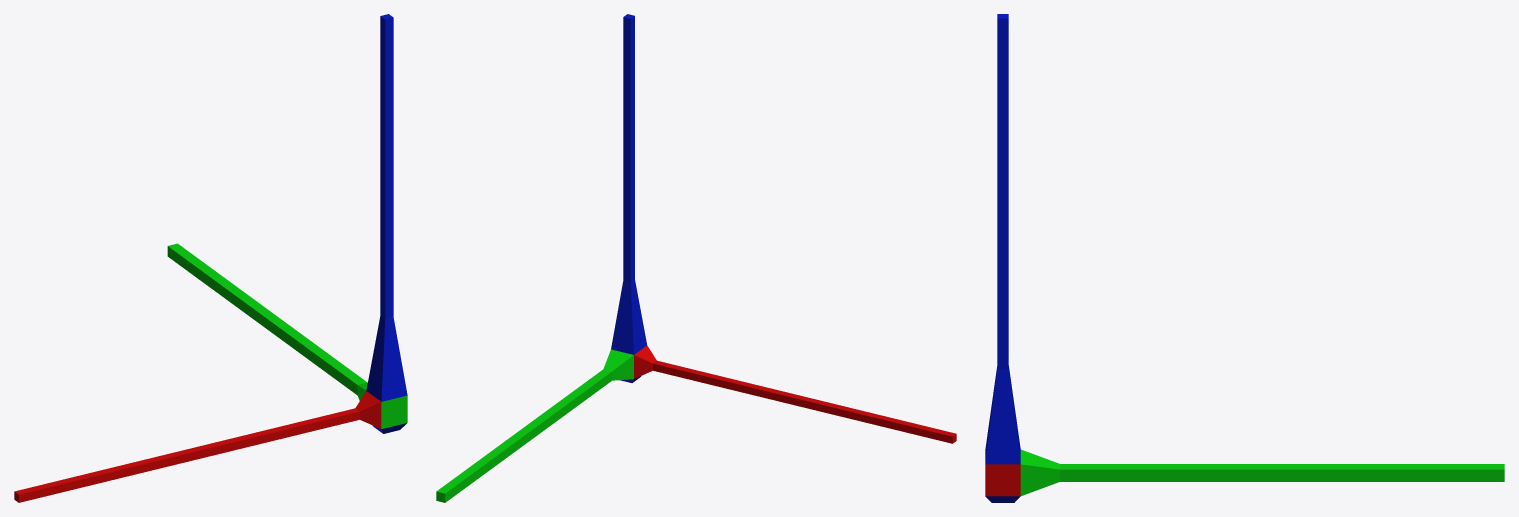
File: ArrowCursorFBX01.fbx
3 views of the same model, side by side, from view 1: azimuth 30°, elevation 25°; view 2: azimuth 150°, elevation 25°; view 3: azimuth 270°, elevation 25° (orthographic). The views are drawn at different scales.
Parts seen in each view (by area): view 1: MyCursor; view 2: MyCursor; view 3: MyCursor.
Part boxes in pixels (bbox=[...]): MyCursor: bbox=[14, 14, 407, 502]; MyCursor: bbox=[436, 14, 956, 502]; MyCursor: bbox=[985, 14, 1504, 502].
Size of the model in its own units: 8.29 by 8.5 by 8.3.
